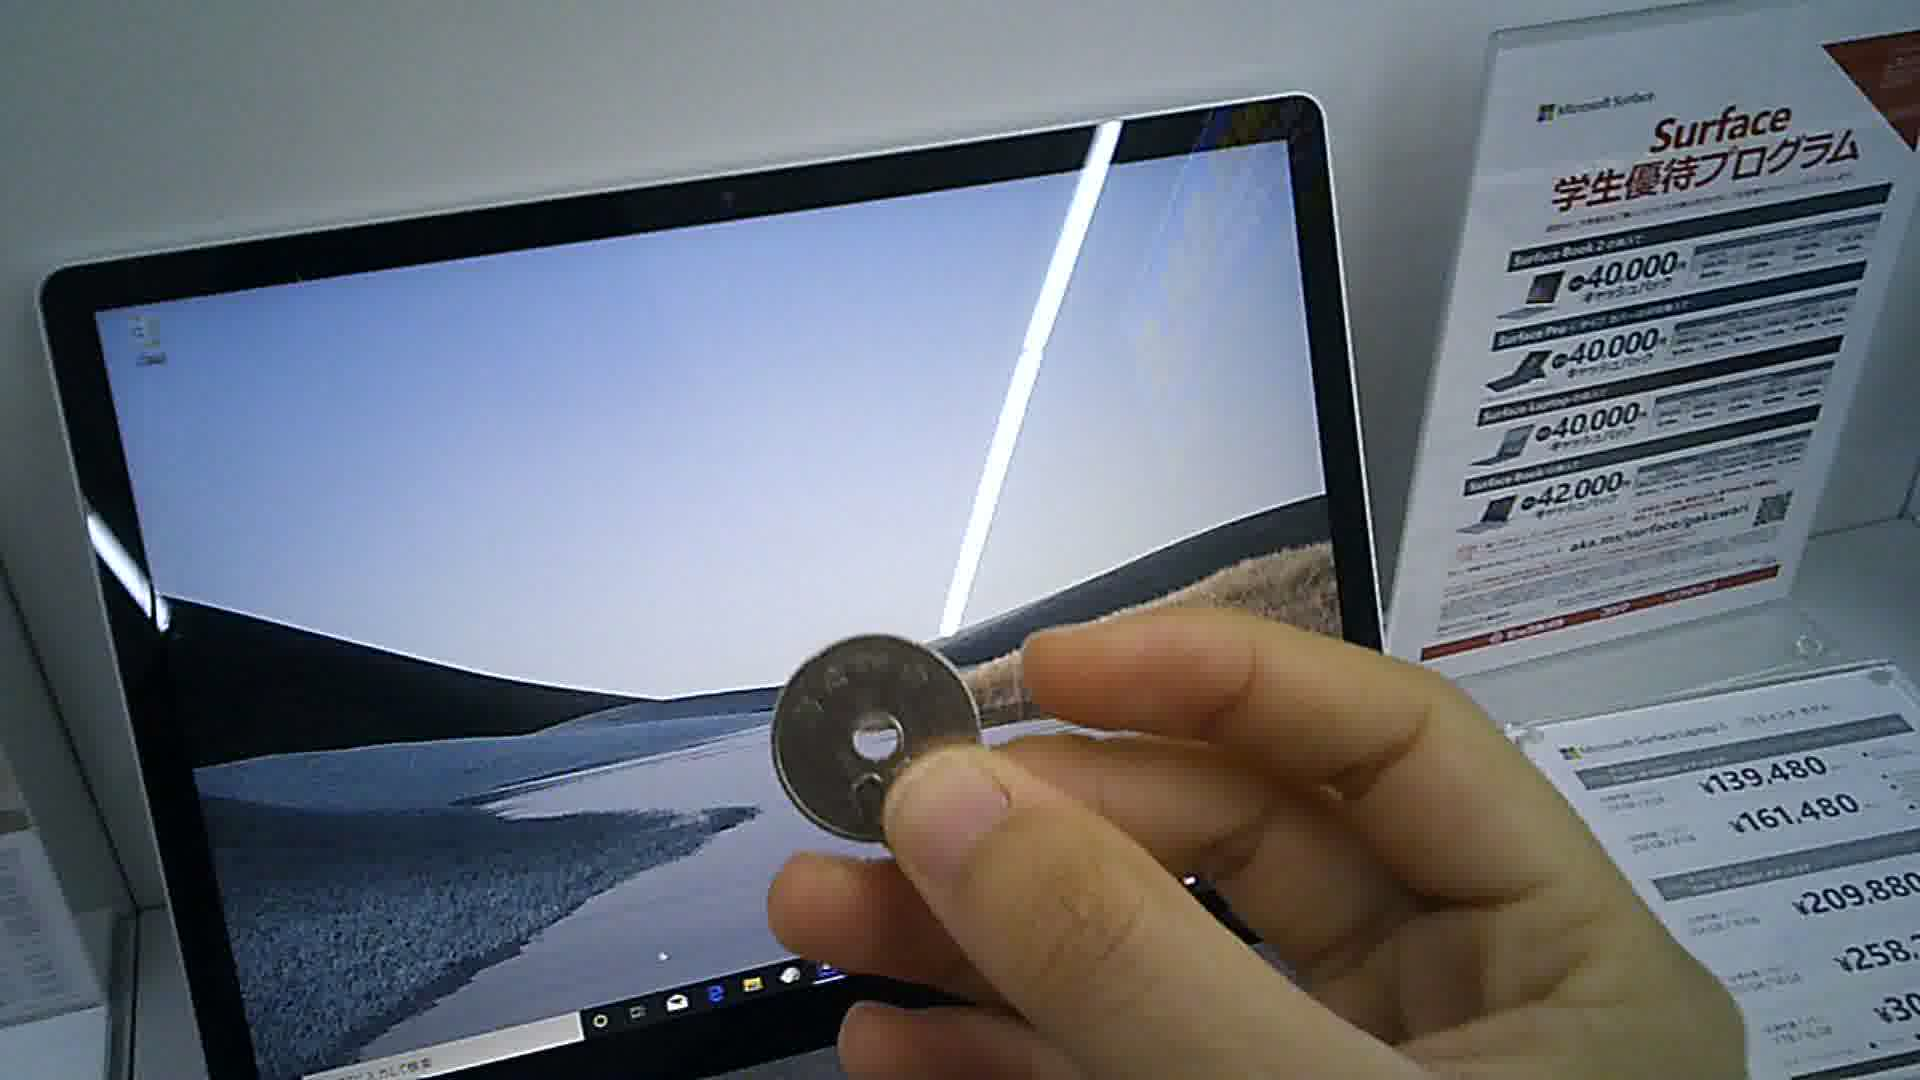50 Yen: (764, 630, 984, 847)
